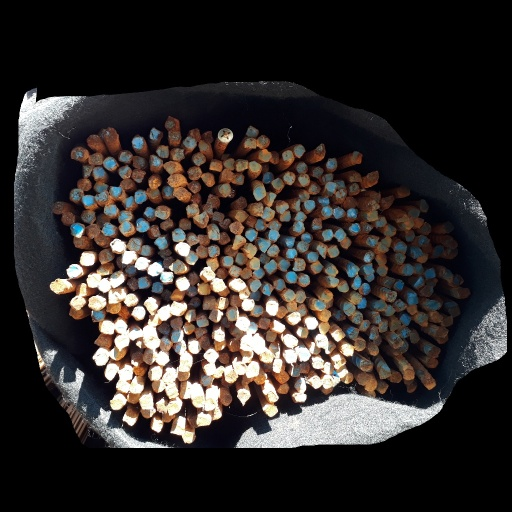dipstick: (173, 187, 191, 202), (167, 173, 186, 187), (169, 260, 187, 274), (49, 279, 65, 294), (211, 277, 227, 292), (230, 234, 246, 249), (192, 213, 209, 227), (68, 296, 86, 309), (108, 289, 126, 302), (69, 188, 84, 203), (143, 297, 158, 312), (121, 196, 137, 210), (80, 209, 96, 223), (155, 205, 171, 219), (66, 264, 82, 278), (228, 221, 244, 235), (103, 131, 118, 145), (85, 224, 100, 238), (118, 220, 133, 234), (110, 239, 125, 253), (126, 238, 141, 252), (79, 253, 94, 267), (88, 296, 103, 310), (99, 321, 114, 335), (138, 396, 153, 410), (134, 256, 148, 271), (175, 276, 189, 291), (201, 266, 216, 280), (202, 296, 217, 310), (203, 348, 218, 362), (186, 202, 200, 217), (235, 316, 250, 330), (249, 202, 264, 216), (122, 251, 138, 264), (92, 353, 108, 366), (144, 336, 160, 349), (268, 342, 281, 358), (262, 404, 278, 417), (118, 165, 132, 179), (97, 278, 111, 292), (154, 237, 168, 251), (148, 175, 162, 189), (200, 172, 214, 186), (167, 130, 181, 144), (287, 311, 301, 325), (252, 186, 266, 200), (98, 251, 113, 264), (86, 274, 101, 287), (69, 306, 84, 319), (114, 336, 129, 349), (128, 327, 143, 340), (123, 413, 138, 426), (110, 271, 123, 286), (185, 233, 200, 246), (206, 256, 219, 271), (197, 413, 212, 426), (200, 202, 213, 217), (264, 259, 277, 274), (257, 238, 270, 253), (281, 149, 294, 164), (71, 148, 87, 160), (76, 179, 92, 191), (95, 336, 111, 348), (115, 381, 131, 393), (440, 266, 452, 282), (96, 264, 113, 275), (108, 186, 122, 199), (131, 169, 144, 183), (133, 191, 147, 204), (100, 223, 114, 236), (118, 210, 132, 223), (136, 219, 149, 233), (75, 283, 88, 297), (124, 294, 138, 307), (132, 306, 145, 320), (113, 320, 127, 333), (148, 367, 161, 381), (173, 341, 186, 355), (148, 313, 162, 326), (157, 307, 171, 320), (149, 155, 163, 168), (155, 145, 169, 158), (187, 340, 201, 353), (150, 419, 164, 432), (170, 423, 184, 436), (224, 370, 238, 383), (209, 309, 223, 322), (192, 152, 206, 165), (218, 129, 232, 142), (228, 265, 242, 278), (260, 350, 274, 363), (265, 302, 278, 316), (272, 359, 285, 373), (256, 135, 270, 148), (283, 171, 296, 185), (275, 200, 289, 213), (292, 257, 305, 271), (313, 143, 326, 157), (343, 196, 357, 209), (397, 184, 411, 197), (382, 195, 395, 209), (409, 245, 422, 259), (390, 336, 404, 349), (119, 178, 134, 190), (142, 352, 157, 364), (187, 271, 199, 286), (164, 117, 179, 129), (223, 244, 238, 256), (231, 279, 246, 291), (274, 371, 289, 383), (283, 335, 298, 347), (263, 192, 275, 207), (346, 207, 358, 222), (394, 211, 409, 223), (392, 299, 407, 311), (132, 156, 145, 169), (97, 214, 110, 227), (52, 202, 65, 215), (70, 224, 83, 237), (73, 235, 86, 248), (117, 305, 130, 318), (156, 352, 169, 365), (170, 302, 183, 315), (185, 252, 198, 265), (197, 234, 210, 247), (196, 245, 209, 258), (195, 315, 208, 328), (203, 362, 216, 375), (178, 359, 191, 372), (166, 402, 179, 415), (216, 296, 229, 309), (235, 158, 248, 171), (217, 231, 230, 244), (244, 228, 257, 241), (261, 207, 274, 220), (258, 149, 271, 162), (292, 145, 305, 158), (297, 173, 310, 186), (297, 274, 310, 287), (325, 181, 338, 194), (332, 206, 345, 219), (367, 170, 380, 183), (388, 318, 401, 331), (416, 314, 429, 327), (458, 287, 471, 300), (81, 194, 95, 206), (95, 192, 109, 204), (104, 205, 118, 217), (60, 212, 74, 224), (95, 233, 107, 247), (149, 128, 163, 140), (163, 161, 177, 173), (182, 431, 196, 443), (185, 415, 199, 427), (211, 330, 225, 342), (206, 194, 220, 206), (219, 183, 231, 197), (227, 338, 239, 352), (231, 324, 243, 338), (245, 125, 259, 137), (285, 270, 297, 284), (294, 379, 306, 393), (331, 329, 345, 341), (450, 273, 464, 285), (425, 299, 439, 311), (106, 302, 121, 313), (186, 181, 201, 192), (182, 136, 197, 147), (290, 196, 301, 211), (369, 324, 379, 340), (103, 158, 116, 170), (92, 167, 105, 179), (131, 137, 143, 150), (110, 348, 123, 360), (105, 368, 117, 381), (131, 352, 143, 365), (160, 338, 172, 351), (171, 330, 183, 343), (157, 323, 170, 335), (126, 277, 138, 290), (147, 263, 159, 276), (162, 186, 174, 199), (198, 282, 211, 294), (176, 368, 189, 380), (162, 370, 174, 383), (192, 394, 204, 407), (203, 398, 216, 410), (208, 407, 221, 419), (220, 393, 232, 406), (187, 166, 200, 178), (209, 160, 222, 172), (171, 148, 184, 160), (223, 157, 235, 170), (235, 210, 248, 222), (235, 251, 247, 264), (241, 298, 254, 310), (248, 257, 260, 270), (265, 330, 277, 343), (266, 390, 279, 402), (310, 376, 322, 389), (321, 361, 333, 374), (305, 318, 318, 330), (334, 229, 346, 242), (358, 283, 371, 295), (343, 303, 356, 315), (341, 344, 354, 356), (361, 221, 373, 234), (367, 198, 380, 210), (418, 222, 430, 235), (378, 366, 391, 378), (376, 380, 388, 393), (412, 276, 424, 289), (430, 311, 443, 323), (88, 154, 102, 165), (118, 152, 132, 163), (91, 310, 105, 321), (109, 399, 123, 410), (151, 381, 165, 392), (200, 335, 211, 349), (200, 375, 214, 386), (213, 339, 227, 350), (266, 219, 280, 230), (350, 276, 361, 290), (366, 235, 380, 246), (93, 182, 108, 192), (117, 370, 132, 380), (140, 408, 155, 418), (161, 412, 176, 422), (316, 244, 326, 259), (151, 282, 163, 294), (184, 310, 196, 322), (180, 387, 192, 399), (221, 255, 233, 267), (221, 168, 233, 180), (240, 267, 252, 279), (258, 317, 270, 329), (251, 305, 263, 317), (283, 289, 295, 301), (278, 259, 290, 271), (267, 244, 279, 256), (254, 218, 266, 230), (296, 161, 308, 173), (303, 199, 315, 211), (268, 229, 280, 241), (293, 220, 305, 232), (316, 335, 328, 347), (319, 309, 331, 321), (310, 261, 322, 273), (347, 327, 359, 339), (336, 365, 348, 377), (353, 338, 365, 350), (365, 379, 377, 391), (374, 216, 386, 228), (445, 236, 457, 248), (403, 367, 415, 379), (421, 284, 433, 296), (86, 135, 99, 146), (83, 165, 94, 178), (169, 317, 182, 328), (160, 272, 173, 283), (148, 225, 159, 238), (160, 219, 173, 230), (172, 230, 185, 241), (166, 387, 179, 398), (233, 364, 246, 375), (207, 245, 220, 256), (197, 140, 210, 151), (236, 196, 247, 209), (218, 218, 231, 229), (226, 309, 239, 320), (237, 390, 250, 401), (252, 268, 265, 279), (246, 215, 257, 228), (248, 160, 261, 171), (244, 138, 257, 149), (296, 327, 309, 338), (313, 300, 326, 311), (325, 265, 338, 276), (333, 357, 346, 368), (340, 373, 353, 384), (357, 374, 370, 385), (374, 300, 387, 311), (376, 242, 389, 253), (389, 372, 402, 383), (448, 306, 461, 317), (158, 248, 172, 258), (292, 392, 306, 402), (444, 249, 458, 259), (439, 316, 453, 326), (144, 207, 155, 219), (127, 393, 139, 404), (159, 290, 171, 301), (137, 277, 148, 289), (140, 244, 152, 255), (163, 256, 174, 268), (178, 245, 190, 256), (185, 285, 197, 296), (182, 322, 193, 334), (213, 365, 224, 377), (216, 268, 228, 279), (208, 229, 220, 240), (212, 211, 224, 222), (254, 372, 265, 384), (247, 365, 259, 376), (247, 321, 258, 333), (249, 280, 261, 291), (273, 322, 285, 333), (285, 352, 297, 363), (296, 304, 307, 316), (295, 291, 306, 303), (273, 279, 285, 290), (262, 283, 273, 295), (271, 178, 283, 189), (261, 171, 272, 183), (284, 236, 295, 248), (296, 241, 308, 252), (311, 358, 323, 369), (324, 342, 336, 353), (318, 323, 330, 334), (320, 290, 332, 301), (322, 230, 333, 242), (311, 167, 323, 178), (325, 158, 337, 169), (351, 151, 362, 163), (335, 189, 347, 200), (346, 266, 358, 277), (359, 320, 371, 331), (370, 311, 381, 323), (363, 251, 374, 263), (349, 183, 360, 195), (412, 217, 424, 228), (442, 221, 454, 232), (394, 242, 406, 253), (385, 290, 397, 301), (399, 314, 411, 325), (424, 379, 436, 390), (406, 293, 418, 304), (423, 268, 435, 279), (146, 187, 159, 197), (194, 327, 207, 337), (156, 400, 166, 413), (276, 305, 286, 318), (298, 351, 311, 361), (326, 276, 339, 286), (306, 251, 319, 261), (350, 172, 363, 182), (419, 199, 429, 212), (383, 225, 396, 235), (383, 306, 396, 316), (378, 319, 388, 332), (436, 327, 449, 337), (125, 265, 136, 276), (231, 295, 242, 306), (298, 189, 309, 200), (309, 183, 320, 194), (299, 362, 310, 373), (309, 342, 320, 353), (321, 206, 332, 217), (349, 223, 360, 234), (352, 313, 363, 324), (367, 344, 378, 355), (418, 234, 429, 245), (432, 244, 443, 255), (403, 264, 414, 275), (394, 253, 405, 264), (376, 265, 387, 276), (132, 366, 144, 376), (179, 219, 191, 229), (218, 354, 230, 364), (203, 130, 213, 142), (241, 348, 253, 358), (285, 301, 297, 311), (270, 152, 280, 164), (294, 211, 306, 221), (323, 377, 333, 389), (327, 247, 339, 257), (317, 196, 329, 206), (350, 294, 362, 304), (334, 310, 346, 320), (361, 360, 373, 370), (366, 211, 378, 221), (402, 219, 414, 229), (405, 229, 415, 241), (375, 254, 387, 264), (400, 326, 410, 338), (398, 342, 408, 354), (407, 208, 420, 217), (190, 297, 201, 307), (235, 174, 245, 185), (260, 252, 270, 263), (280, 211, 291, 221), (286, 248, 297, 258), (290, 365, 300, 376), (338, 282, 349, 292), (311, 220, 322, 230), (322, 173, 333, 183), (340, 237, 351, 247), (363, 264, 374, 274), (393, 280, 404, 290), (428, 357, 438, 368), (430, 346, 440, 357), (407, 304, 418, 314), (221, 317, 233, 326), (250, 291, 262, 300), (277, 384, 289, 393), (301, 233, 311, 243), (414, 264, 424, 274), (218, 287, 229, 296), (409, 334, 420, 343), (241, 374, 253, 382), (136, 339, 146, 348), (239, 290, 249, 299), (357, 298, 366, 308), (382, 236, 391, 246), (188, 128, 199, 136), (437, 335, 448, 343), (179, 381, 191, 388), (369, 191, 381, 198), (373, 336, 382, 345), (407, 384, 416, 393), (364, 274, 375, 281), (417, 255, 428, 262), (404, 378, 415, 385), (116, 256, 122, 268), (228, 187, 234, 197), (336, 181, 346, 187), (325, 301, 333, 308)
